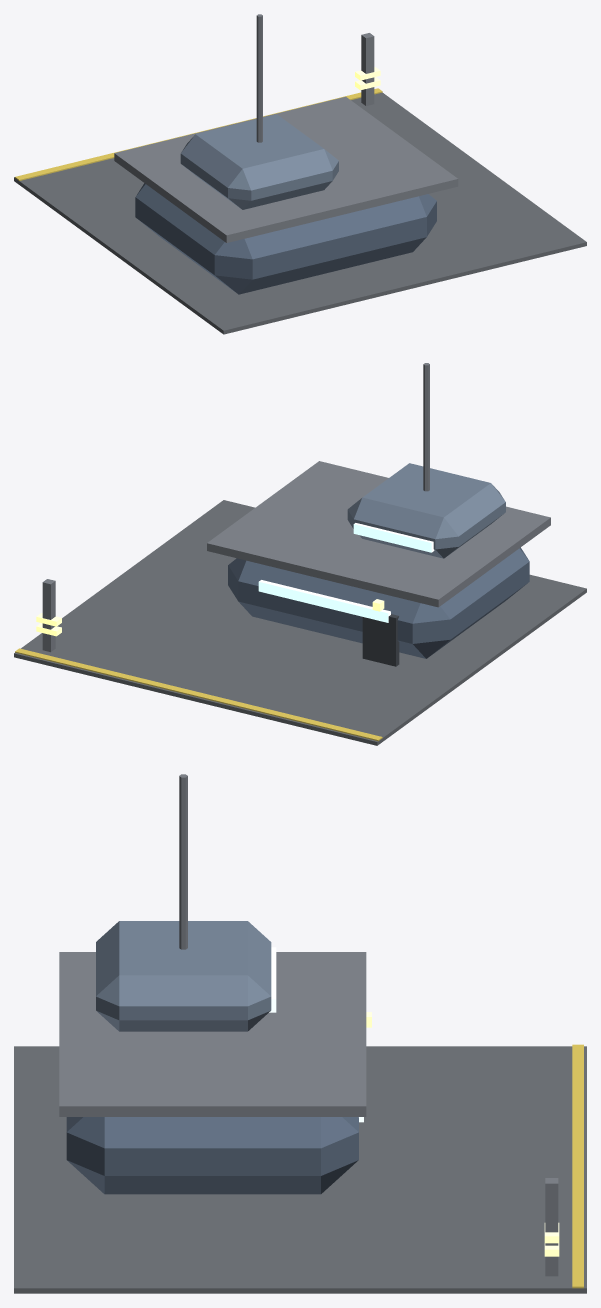
Rendered from zone_low_2_t2.glb.
3 views of the same model, one above another, from view 1: azimuth 30°, elevation 25°; view 2: azimuth 150°, elevation 25°; view 3: azimuth 270°, elevation 25° (orthographic). The views are drawn at different scales.
Parts seen in each view (by area): view 1: zone_low_2_t2, detail; view 2: zone_low_2_t2, detail; view 3: zone_low_2_t2, detail.
Boxes of the visible parts, <box> form: zone_low_2_t2: <box>14,92,586,334</box>; detail: <box>15,14,382,180</box>; zone_low_2_t2: <box>14,461,586,745</box>; detail: <box>15,363,429,741</box>; zone_low_2_t2: <box>14,921,586,1293</box>; detail: <box>179,774,583,1288</box>.
Size of the model in its own units: 19.6 by 12.87 by 19.6.
